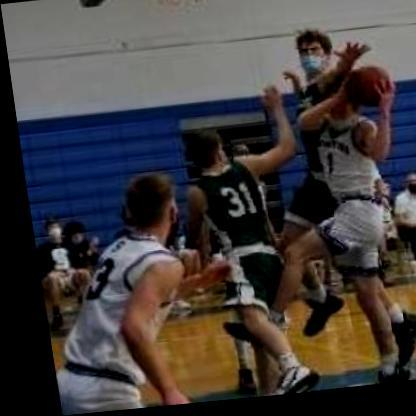basketball: (341, 67, 391, 115)
